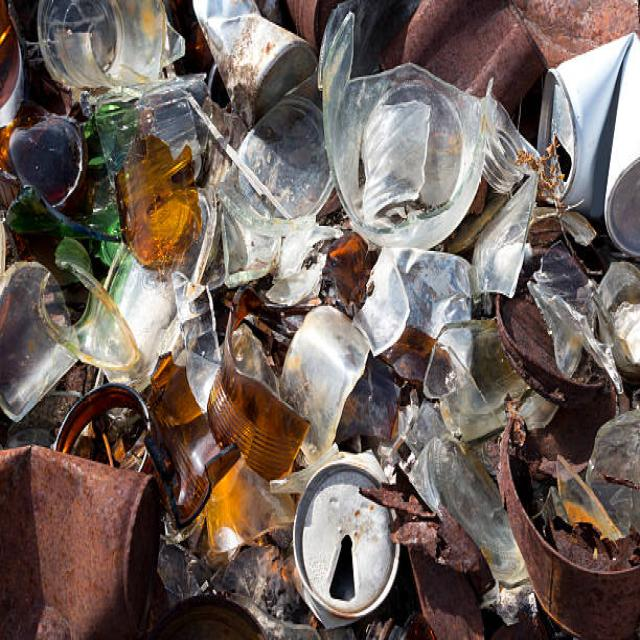glass: (317, 27, 487, 240), (13, 42, 108, 245), (211, 302, 312, 460), (43, 260, 141, 378), (115, 147, 209, 270), (227, 122, 309, 235)
metal: (7, 444, 168, 638), (288, 467, 417, 618), (501, 414, 599, 598)
